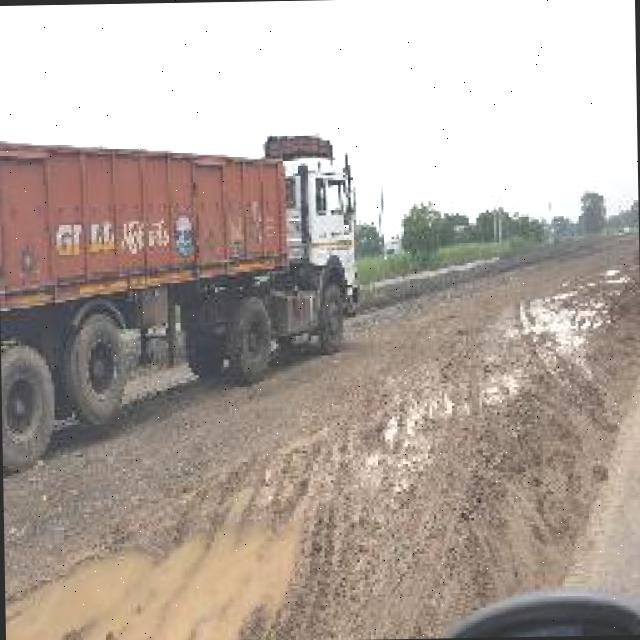stagnation: (44, 455, 352, 640), (507, 284, 628, 378)
